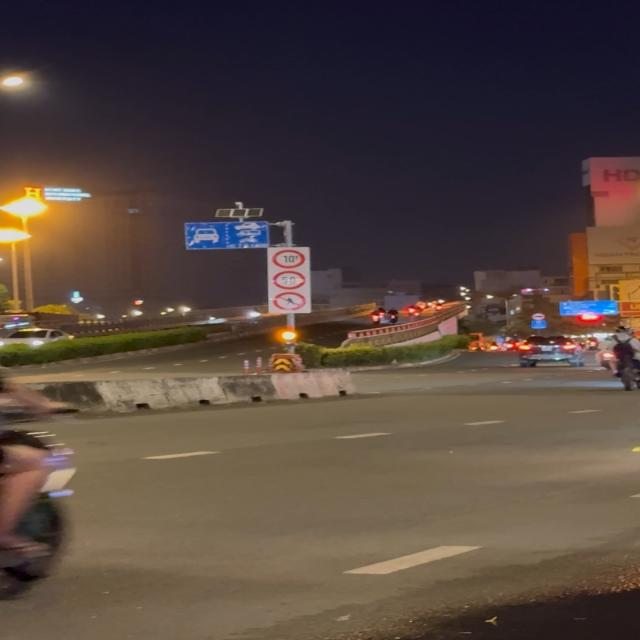Bien bao cam nguoi di bo: (270, 291, 310, 312)
Bien bao toc do toi da cho phep: (271, 270, 309, 291)
